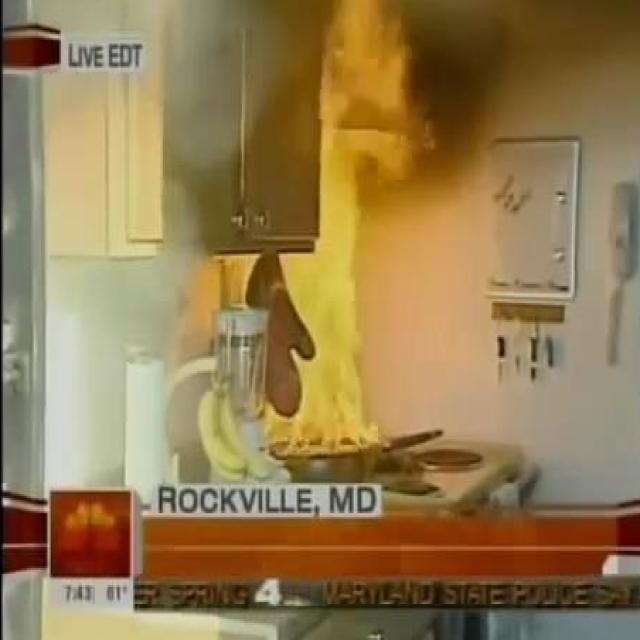fire: (102, 0, 276, 163), (388, 0, 640, 53)
smoke: (203, 0, 426, 454)
